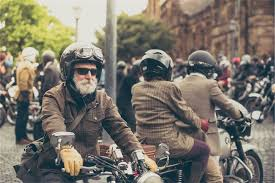helmet: (59, 40, 106, 96)
